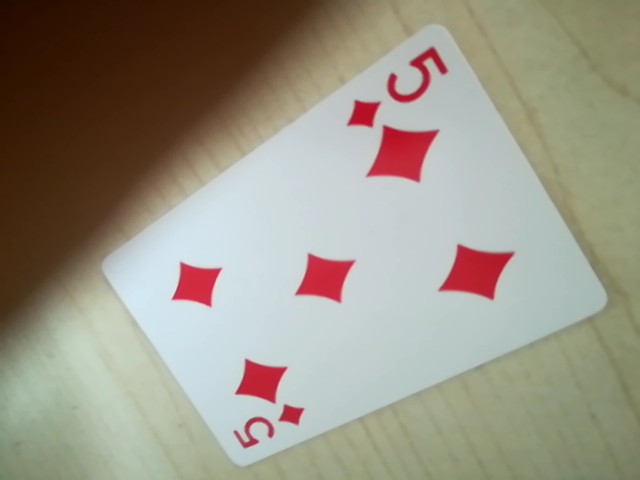fk 5: (341, 40, 448, 134), (229, 398, 309, 458)
